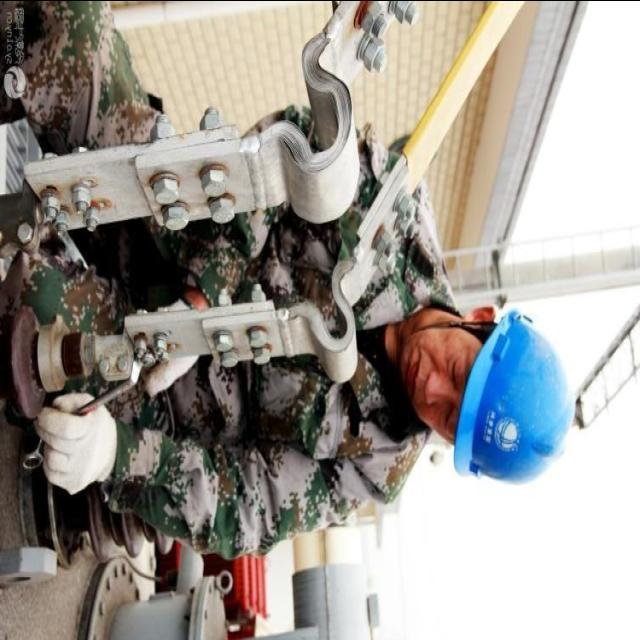helmet: (450, 280, 568, 522)
